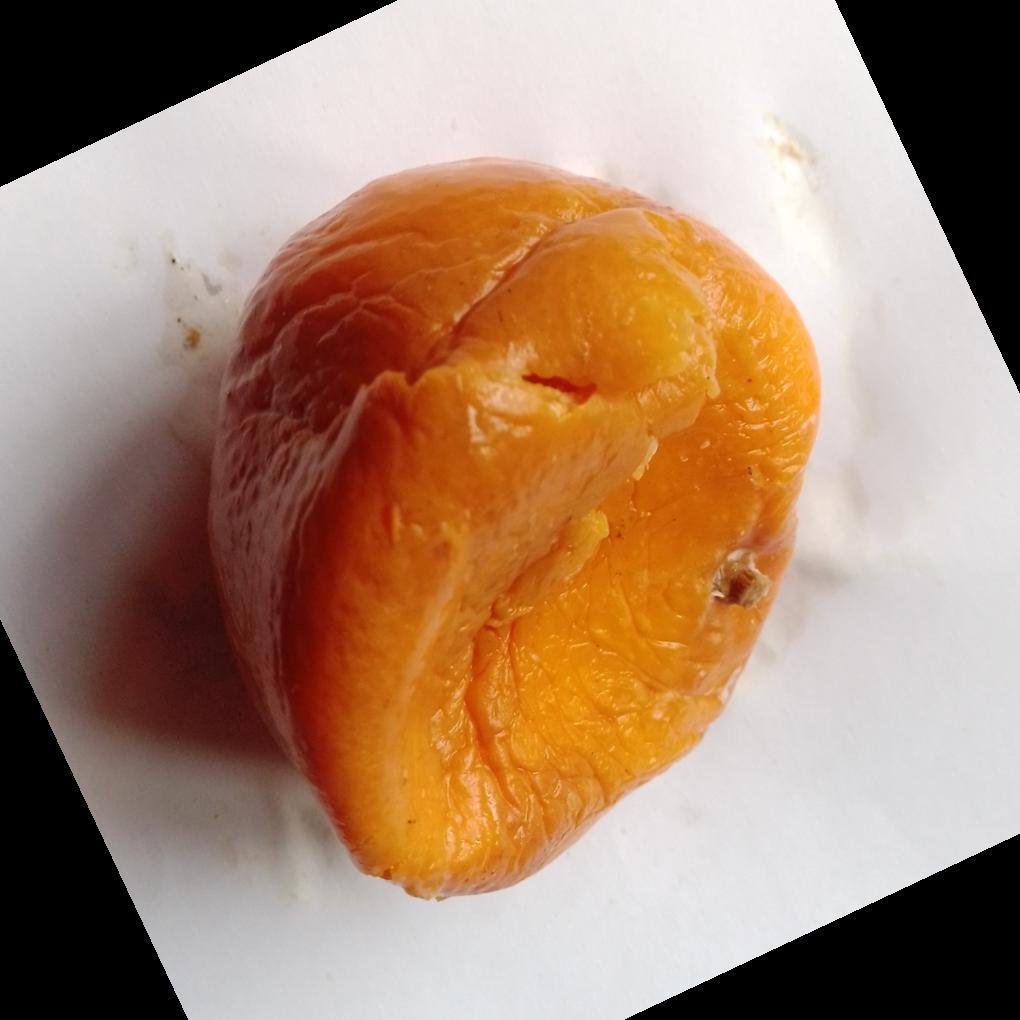FreshOrange: (204, 158, 823, 906)
